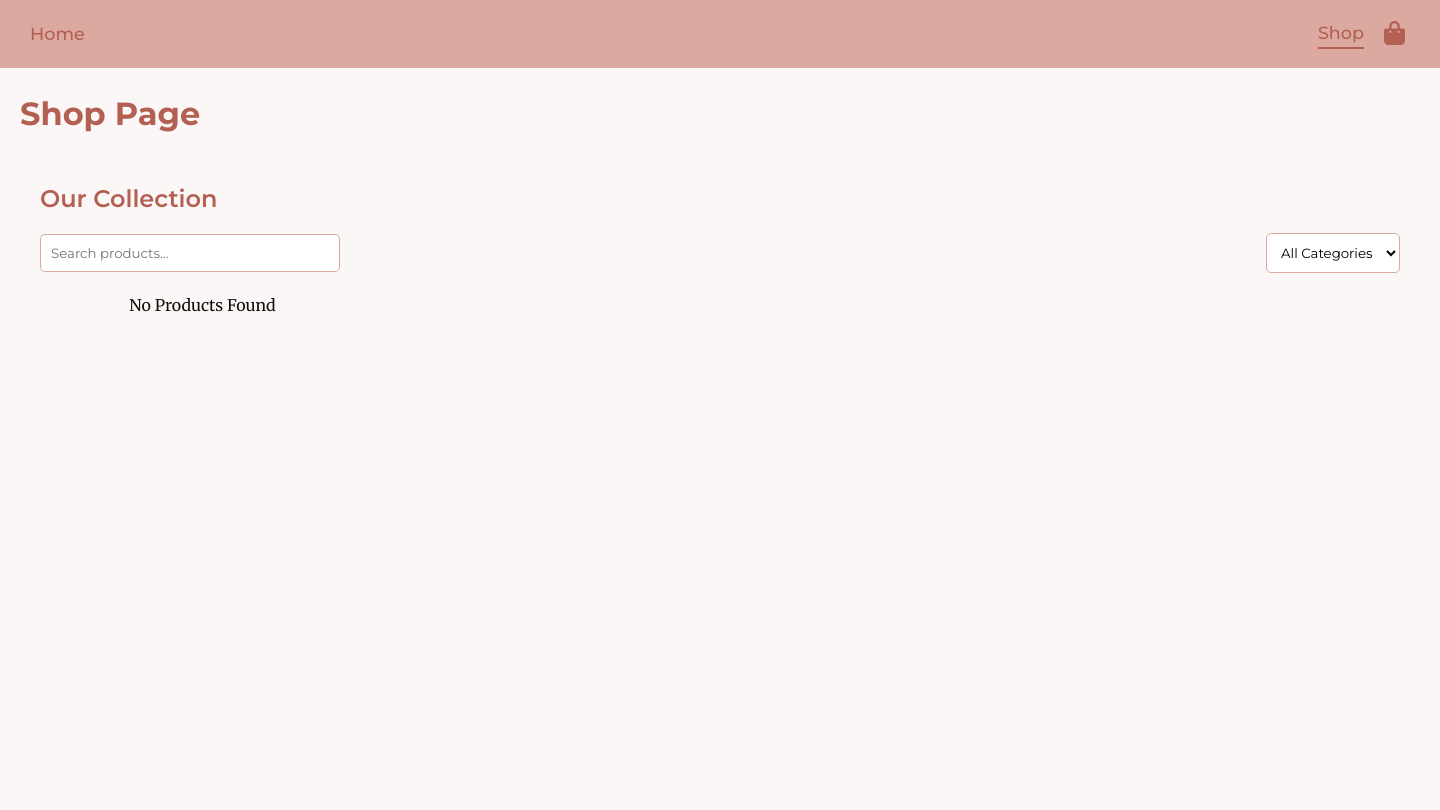
Test: App component › navigates to cart route
The image size is (1440, 810).
Step 1. Click the link with test id "cart-link" → (1394, 33), box [1384,21,1405,45]
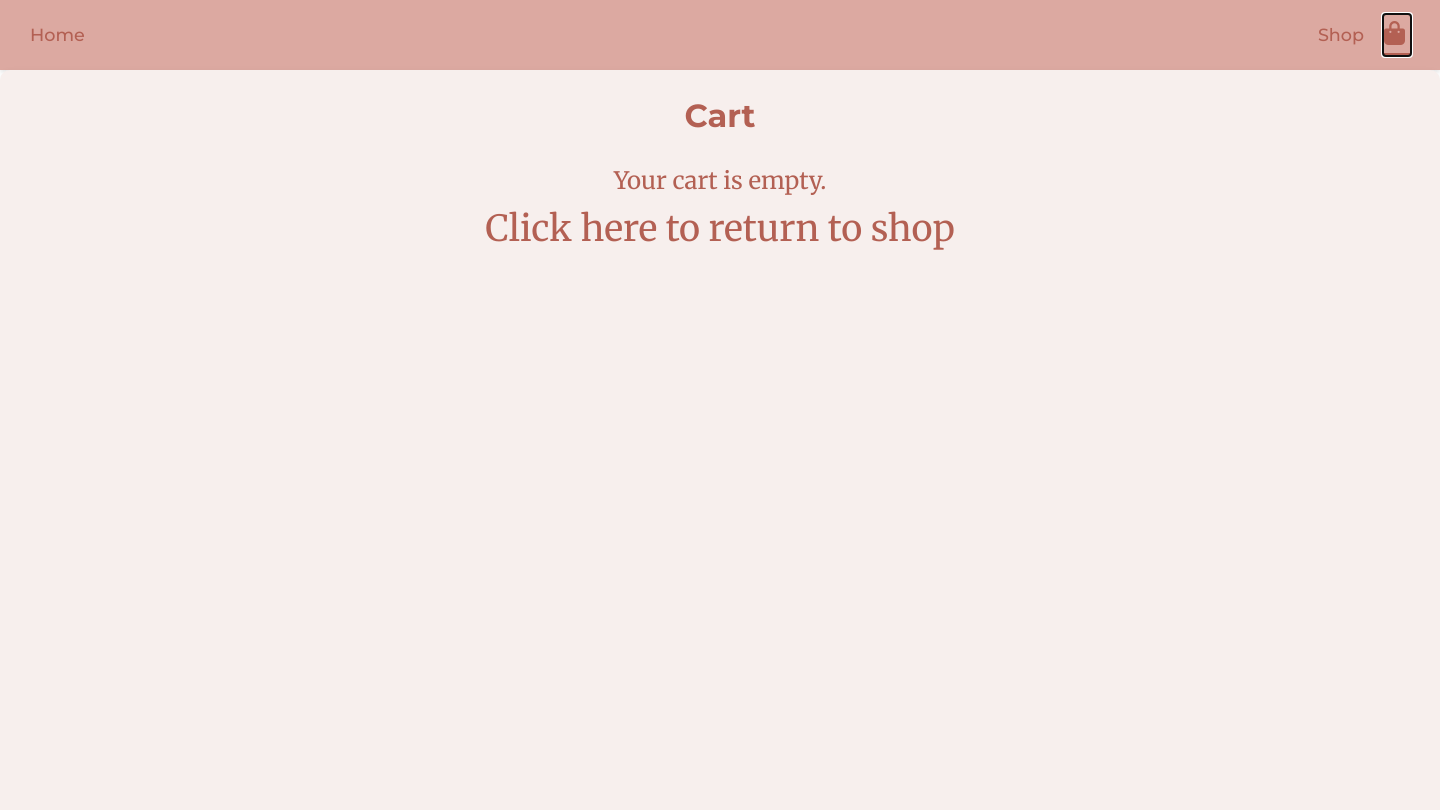
Expected: the heading reads "Cart", [684,96,756,135]
